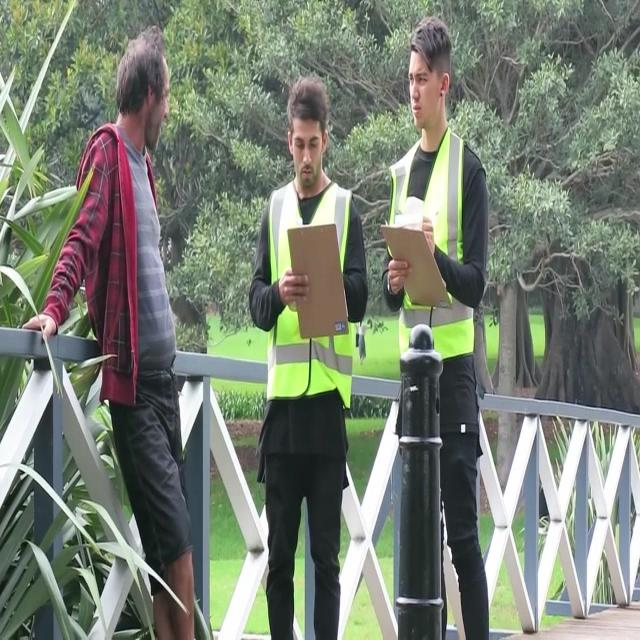Reflective-Jacket: (384, 128, 492, 371), (258, 175, 360, 417)
